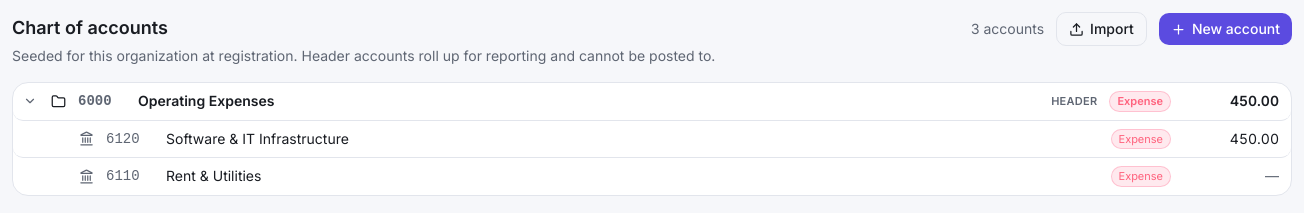
Test: AccountsPage › header rows start expanded and collapse on click
Expected: the text "Software & IT Infrastructure" is shown, [166, 130, 349, 147]
Click the button named "Collapse 6000 Operating Expenses".
click(30, 101)  # box [21, 92, 39, 110]
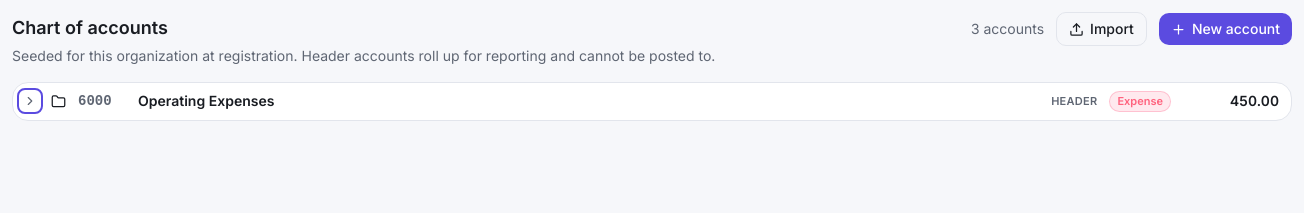
Expected: the button named "Expand 6000 Operating Expenses" is collapsed, [21, 92, 39, 110]
Expected: the link "Software & IT Infrastructure" is gone
